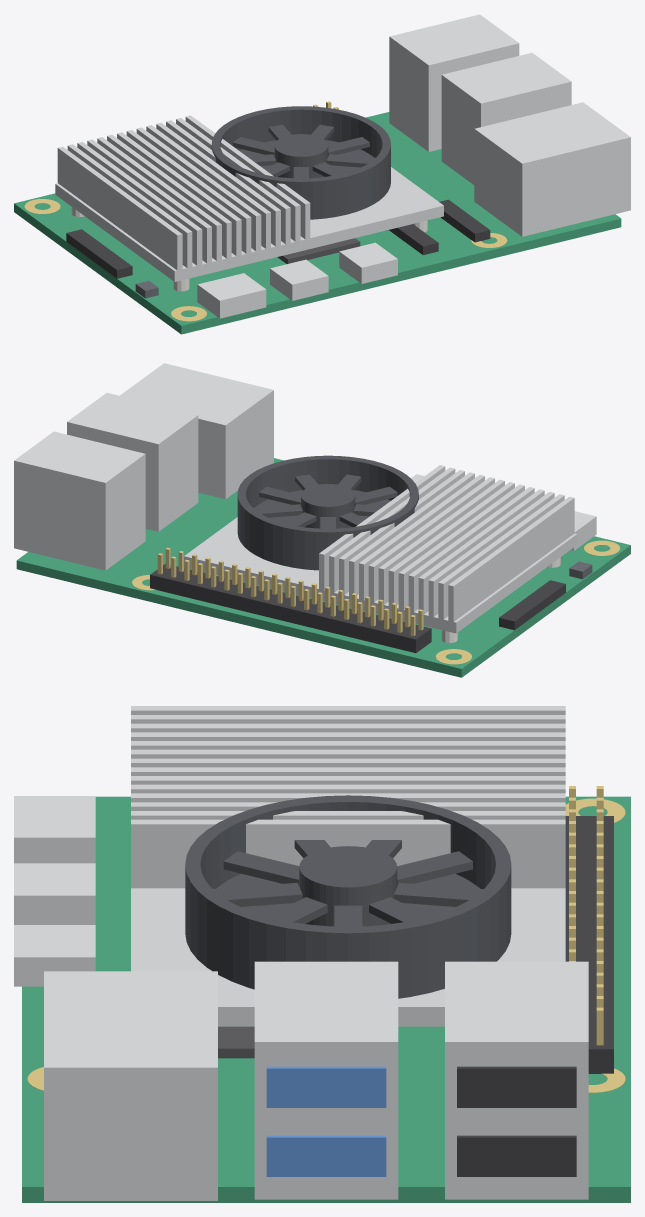
Rendered from rpi5.glb.
3 renders of one model, top to bottom at view 1: azimuth 30°, elevation 25°; view 2: azimuth 150°, elevation 25°; view 3: azimuth 270°, elevation 25°, orthographic. The views are drawn at different scales.
Parts seen in each view (by area): view 1: rpi5_1_pcb_pi, rpi5_47_shield, rpi5_78_fan, rpi5_51_shield, rpi5_48_shield, rpi5_63_alu, rpi5_64_alu, rpi5_54_shield, rpi5_56_shield, rpi5_55_shield, rpi5_80_fan, rpi5_65_alu (+20 smaller); view 2: rpi5_1_pcb_pi, rpi5_51_shield, rpi5_47_shield, rpi5_78_fan, rpi5_48_shield, rpi5_6_plastic_black, rpi5_63_alu, rpi5_64_alu, rpi5_80_fan, rpi5_65_alu, rpi5_66_alu, rpi5_69_alu (+16 smaller); view 3: rpi5_47_shield, rpi5_1_pcb_pi, rpi5_78_fan, rpi5_48_shield, rpi5_51_shield, rpi5_77_alu, rpi5_63_alu, rpi5_6_plastic_black, rpi5_80_fan, rpi5_54_shield, rpi5_55_shield, rpi5_49_usb_blue (+25 smaller).
Boxes of the visible parts, x1=… form: rpi5_1_pcb_pi: x1=14, y1=112, x2=621, y2=334; rpi5_47_shield: x1=474, y1=102, x2=630, y2=236; rpi5_78_fan: x1=211, y1=106, x2=390, y2=219; rpi5_51_shield: x1=389, y1=14, x2=519, y2=151; rpi5_48_shield: x1=441, y1=53, x2=571, y2=184; rpi5_63_alu: x1=55, y1=167, x2=443, y2=281; rpi5_64_alu: x1=57, y1=146, x2=182, y2=270; rpi5_54_shield: x1=197, y1=273, x2=266, y2=318; rpi5_56_shield: x1=339, y1=242, x2=397, y2=283; rpi5_55_shield: x1=270, y1=259, x2=328, y2=300; rpi5_80_fan: x1=274, y1=134, x2=328, y2=178; rpi5_65_alu: x1=67, y1=144, x2=192, y2=268; rpi5_1_pcb_pi: x1=16, y1=458, x2=630, y2=677; rpi5_51_shield: x1=14, y1=431, x2=145, y2=570; rpi5_47_shield: x1=120, y1=363, x2=273, y2=499; rpi5_78_fan: x1=237, y1=455, x2=418, y2=570; rpi5_48_shield: x1=67, y1=393, x2=198, y2=531; rpi5_6_plastic_black: x1=150, y1=563, x2=431, y2=653; rpi5_63_alu: x1=184, y1=517, x2=577, y2=633; rpi5_64_alu: x1=448, y1=496, x2=574, y2=621; rpi5_80_fan: x1=301, y1=484, x2=355, y2=528; rpi5_65_alu: x1=438, y1=494, x2=564, y2=619; rpi5_66_alu: x1=428, y1=491, x2=554, y2=616; rpi5_69_alu: x1=398, y1=484, x2=524, y2=609; rpi5_47_shield: x1=44, y1=971, x2=217, y2=1200; rpi5_1_pcb_pi: x1=22, y1=796, x2=630, y2=1202; rpi5_78_fan: x1=185, y1=795, x2=511, y2=998; rpi5_48_shield: x1=254, y1=961, x2=398, y2=1199; rpi5_51_shield: x1=445, y1=961, x2=588, y2=1199; rpi5_77_alu: x1=131, y1=819, x2=565, y2=888; rpi5_63_alu: x1=131, y1=888, x2=565, y2=1026; rpi5_6_plastic_black: x1=565, y1=816, x2=613, y2=1073; rpi5_80_fan: x1=299, y1=846, x2=397, y2=926; rpi5_54_shield: x1=14, y1=796, x2=95, y2=863; rpi5_55_shield: x1=14, y1=863, x2=95, y2=924; rpi5_49_usb_blue: x1=266, y1=1066, x2=386, y2=1107.
Bounding box in the file's own units: 88.2 × 17.63 × 56.75.
